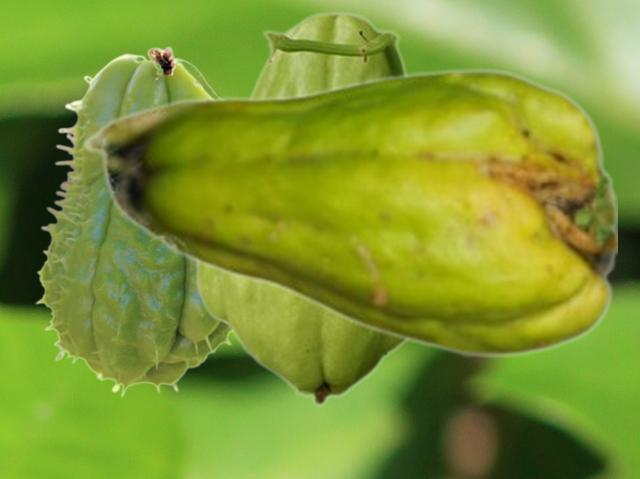sayote: (81, 67, 616, 358), (194, 11, 408, 406), (34, 45, 234, 397)
